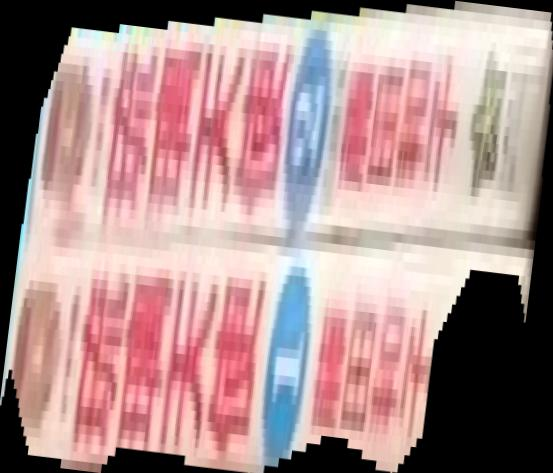flat: (1, 1, 553, 473)
